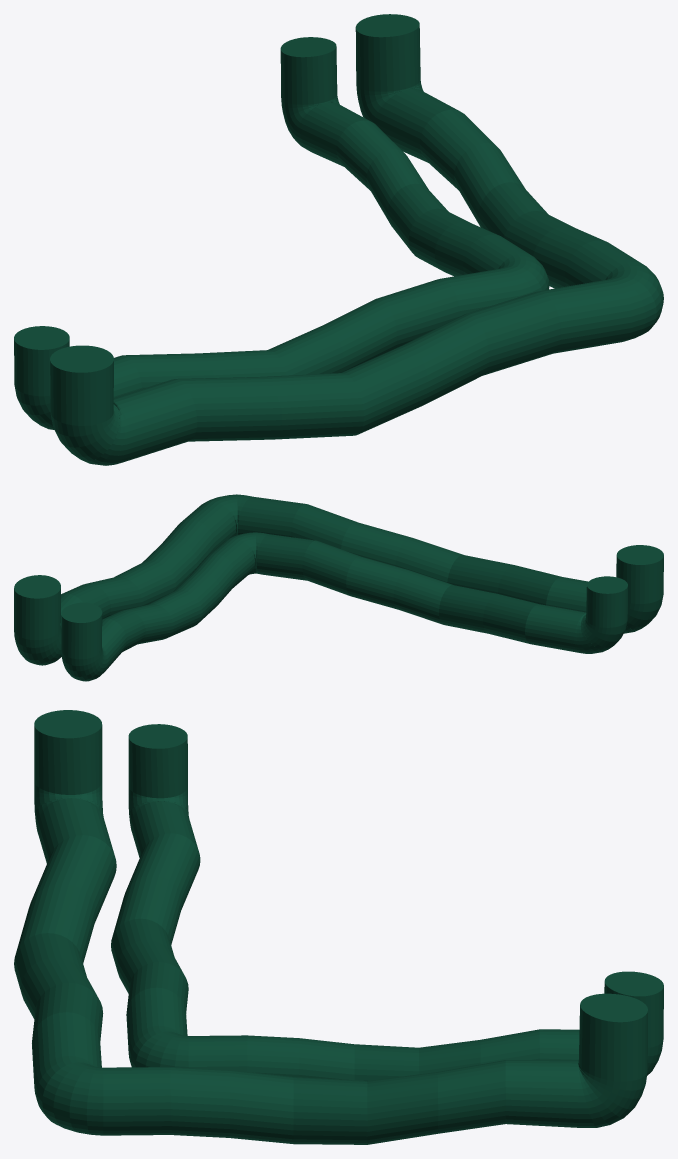
File: Tuyaux.fbx
3 views of the same model, one above another, from view 1: azimuth 30°, elevation 25°; view 2: azimuth 150°, elevation 25°; view 3: azimuth 270°, elevation 25° (orthographic). The views are drawn at different scales.
Visible parts, largest first — view 1: Cylinder, Cylinder.001; view 2: Cylinder.001, Cylinder; view 3: Cylinder, Cylinder.001.
Boxes of the visible parts, x1,y1,x2,y2 form: Cylinder: [50, 14, 663, 465]; Cylinder.001: [14, 37, 549, 429]; Cylinder.001: [61, 532, 627, 681]; Cylinder: [14, 494, 663, 665]; Cylinder: [14, 710, 647, 1144]; Cylinder.001: [111, 724, 663, 1080].
Size of the model in its own units: 2246 by 482 by 1909.
